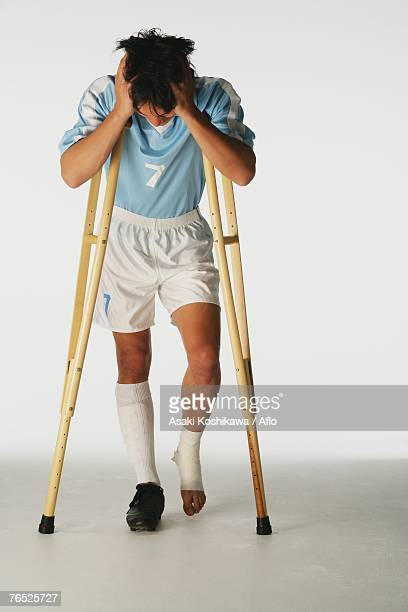crutches: (35, 26, 274, 538)
